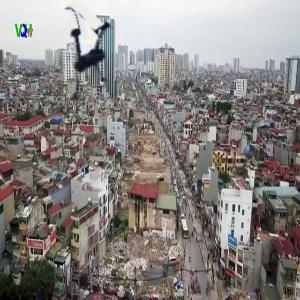drone: (34, 12, 136, 114)
